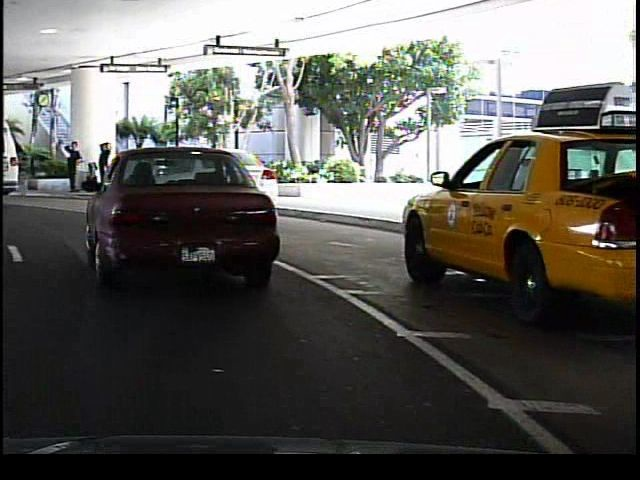person: (145, 144, 172, 198), (57, 139, 81, 197), (93, 140, 112, 178)
